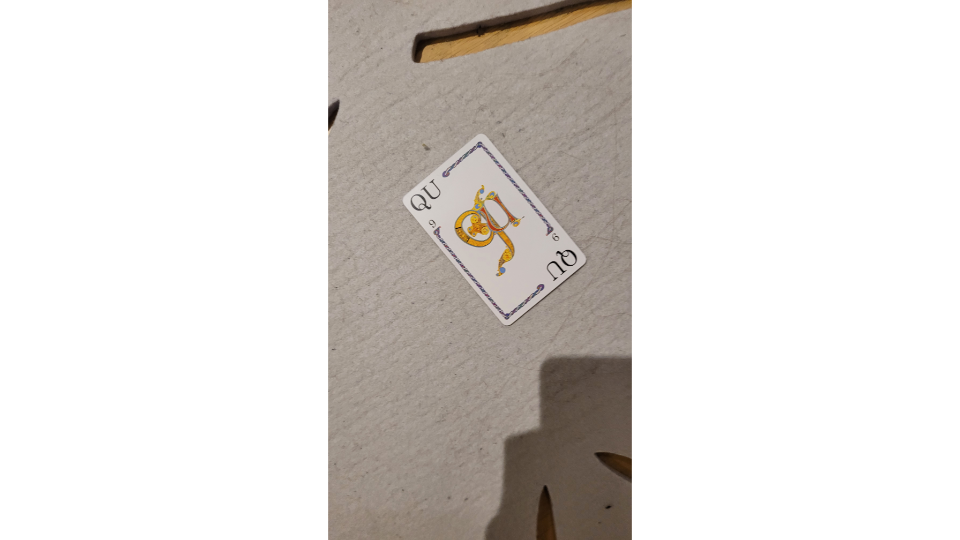QU: (398, 130, 592, 328)
